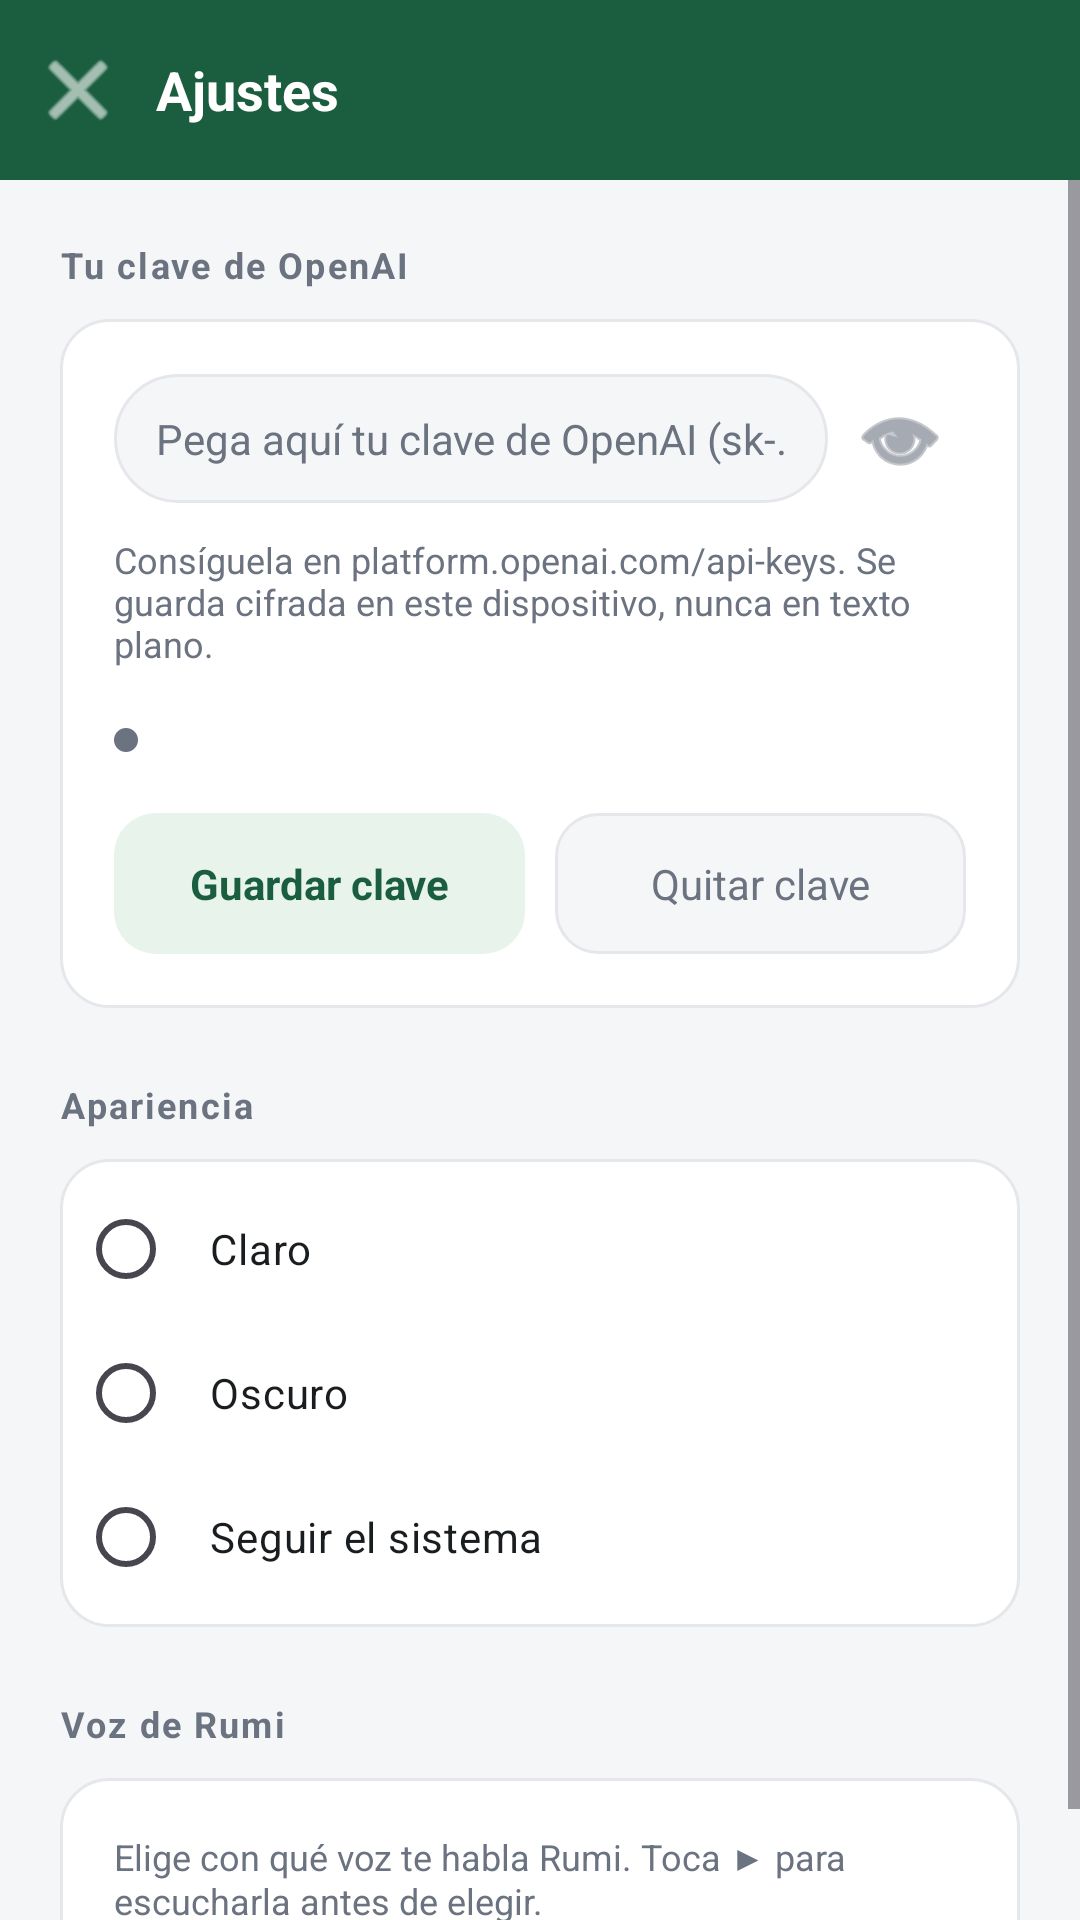

Named icons in this screenshot (1080px×1920px) and their centers, point (x, y):
Cerrar: point (78, 90)
Mostrar u ocultar la clave: point (900, 441)
